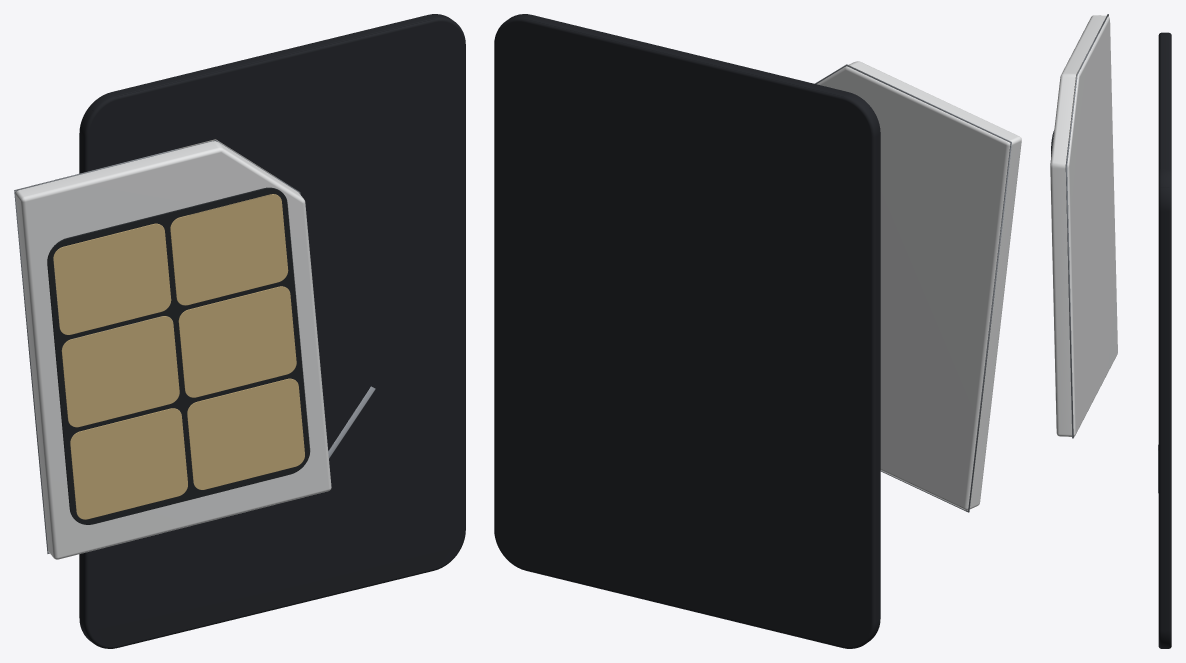
Rendered from activations-portable.glb.
3 views of the same model, side by side, from view 1: azimuth 30°, elevation 25°; view 2: azimuth 150°, elevation 25°; view 3: azimuth 270°, elevation 25° (orthographic). The views are drawn at different scales.
Parts seen in each view (by area): view 1: ICON_ROOT__ICON_ROOT_PBR, Activation SIM__Activation SIM_PBR; view 2: ICON_ROOT__ICON_ROOT_PBR, Activation SIM__Activation SIM_PBR; view 3: Activation SIM__Activation SIM_PBR, ICON_ROOT__ICON_ROOT_PBR.
Part boxes in pixels (x1,y1,x2,y2): ICON_ROOT__ICON_ROOT_PBR: (79,14,465,648); Activation SIM__Activation SIM_PBR: (14,139,331,559); ICON_ROOT__ICON_ROOT_PBR: (494,14,880,648); Activation SIM__Activation SIM_PBR: (815,61,1021,512); Activation SIM__Activation SIM_PBR: (1050,14,1117,438); ICON_ROOT__ICON_ROOT_PBR: (1158,32,1171,648).
Size of the model in its own units: 0.0165 by 0.018 by 0.00416.
Materials: 2 (2 with a texture image).
